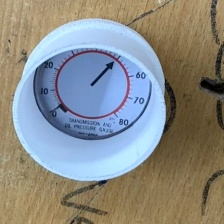gauge: (32, 49, 151, 140)
